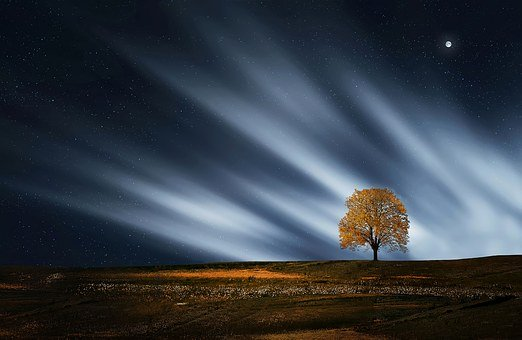ground: (14, 264, 522, 334)
sky: (6, 4, 514, 255)
tree: (335, 178, 420, 266)
